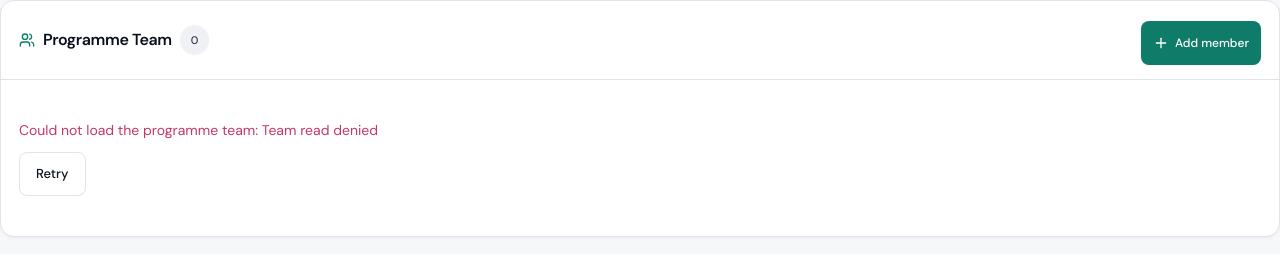
programme team read handling › surfaces a forced query failure and retries successfully
Expected: the message shows "Team read denied", x1=262 y1=121 x2=378 y2=139
What coordinates should you click on to do the following:
click the button "Retry"
I would click on:
 (52, 174)
Its box is x1=19 y1=152 x2=86 y2=196.
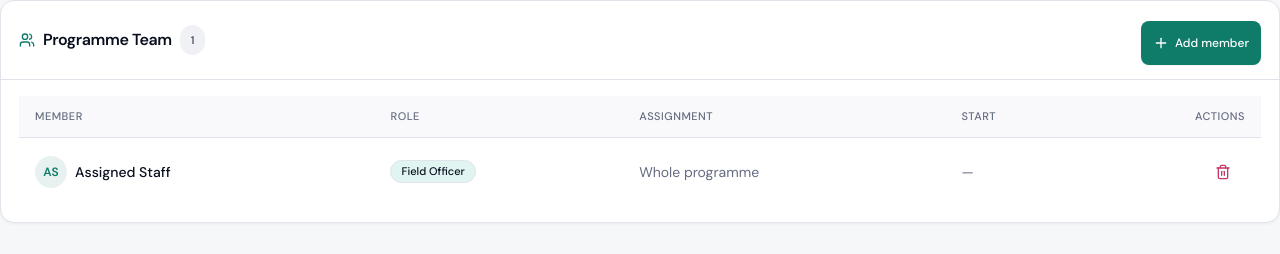
Expected: the text "Assigned Staff" is shown, x1=75 y1=162 x2=171 y2=182
